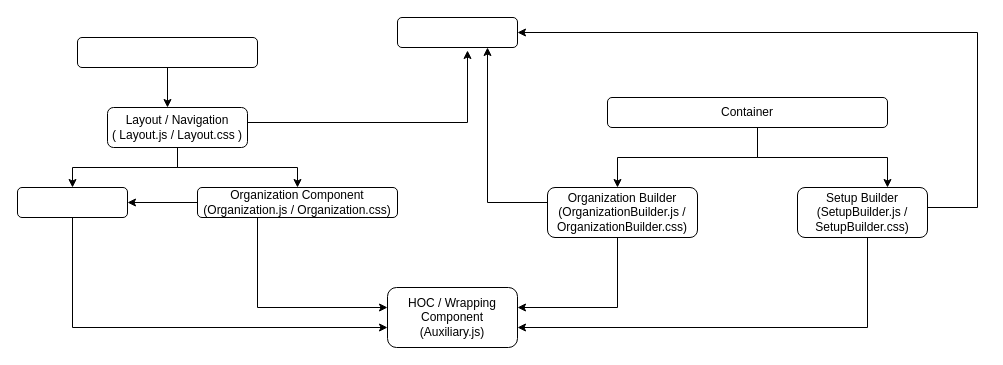
Some shapes in this 1003 by 365 pixel diagram are drawn without their labels. Here are the shapes that lost their labels. From the top down, the centre of each, then its label:
the point at 167,52: Component
the point at 457,32: App.js
the point at 72,202: Floor Component (Floor.js / Floor.css)
